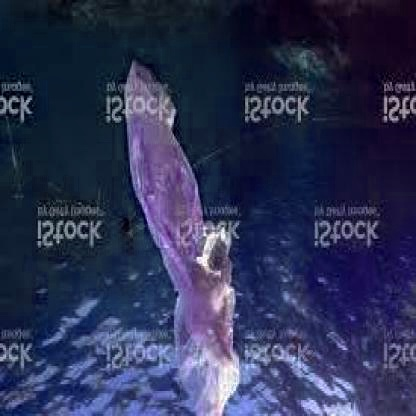pbag: (124, 54, 242, 416)
